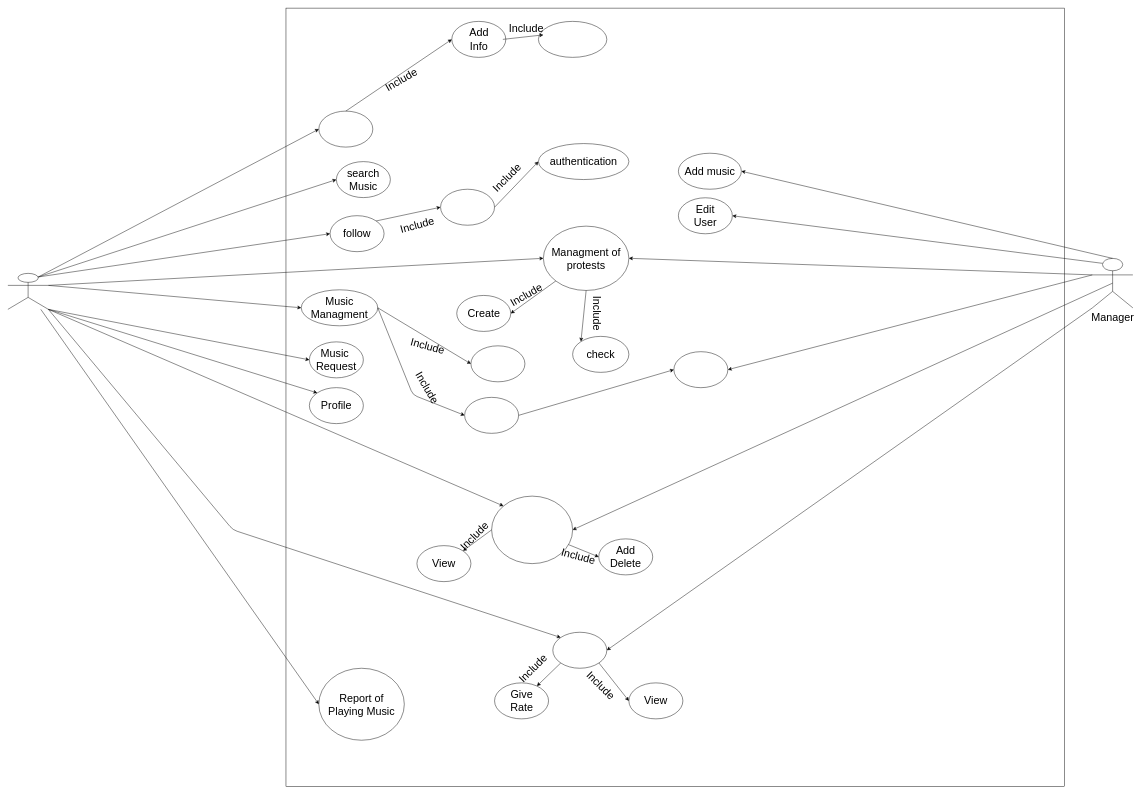
Some shapes in this 1142 by 794 pixel diagram are drawn without their labels. Each missing label, with the centre of its shape:
"Create Play List" goes at (x=497, y=363).
"Insert Database" goes at (x=572, y=39).
"Manage Advertising" goes at (x=532, y=530).
"Play Music" goes at (x=491, y=415).
"Popular Music" goes at (x=700, y=369).
"Rating" goes at (x=579, y=650).
"Search User" goes at (x=467, y=207).
"Sign in" goes at (x=345, y=129).
"user" goes at (x=27, y=291).
